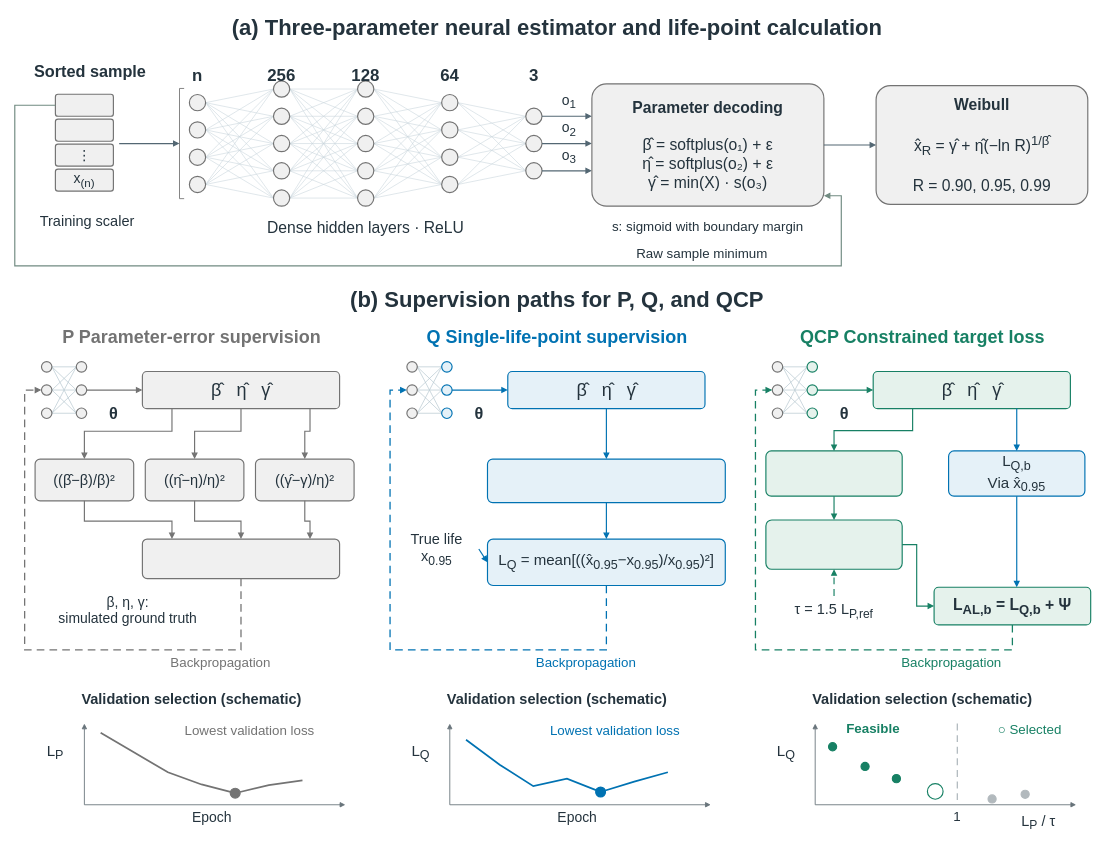
Some shapes in this 1103 by 843 pixel diagram are drawn without their labels. Here are the shapes that lost their labels. From the top down, the centre of each, then its label:
pixel 84 105: x (1)
pixel 84 130: x (2)
pixel 606 480: x̂ 0.95 = γ̂ + η̂(−ln 0.95) 1/β̂
pixel 833 473: L P,b Parameter loss
pixel 241 558: L P = mean(Σ)
pixel 833 544: Penalty Ψ g b = L P,b − τ
